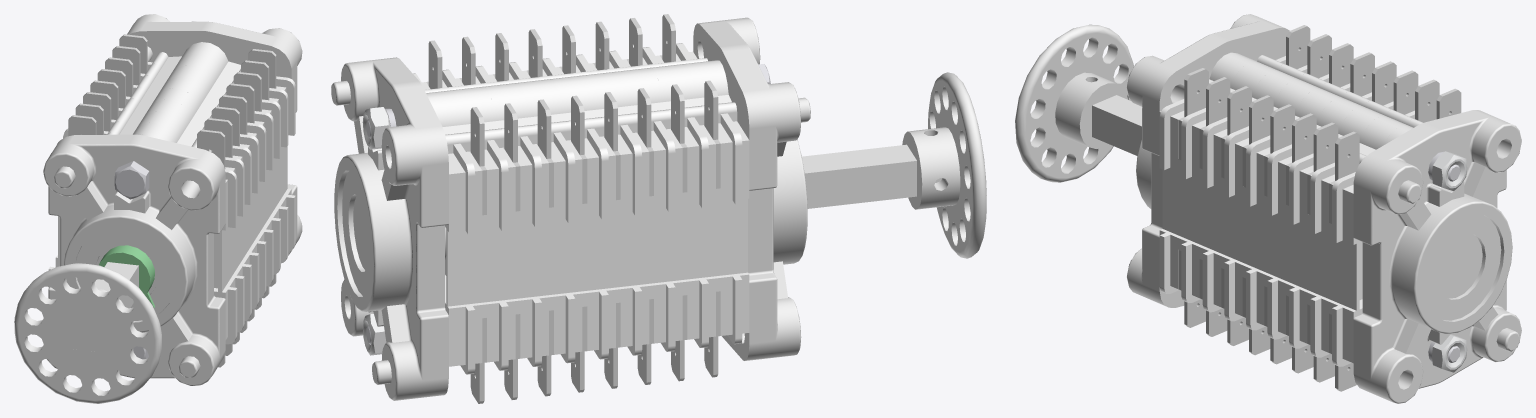
File: 12_vyklyuchatel-kontsevoy-f10.glb
3 renders of one model, left to right at view 1: azimuth 30°, elevation 25°; view 2: azimuth 150°, elevation 25°; view 3: azimuth 270°, elevation 25°, orthographic. The views are drawn at different scales.
Visible parts, largest first — view 1: 12_vyklyuchatel-kontsevoy-f10; view 2: 12_vyklyuchatel-kontsevoy-f10; view 3: 12_vyklyuchatel-kontsevoy-f10.
Boxes of the visible parts, bbox=[...] form: 12_vyklyuchatel-kontsevoy-f10: bbox=[14, 14, 302, 403]; 12_vyklyuchatel-kontsevoy-f10: bbox=[331, 14, 986, 403]; 12_vyklyuchatel-kontsevoy-f10: bbox=[1015, 14, 1521, 403].
Bounding box in the file's own units: 0.1165 × 0.064 × 0.1165.
